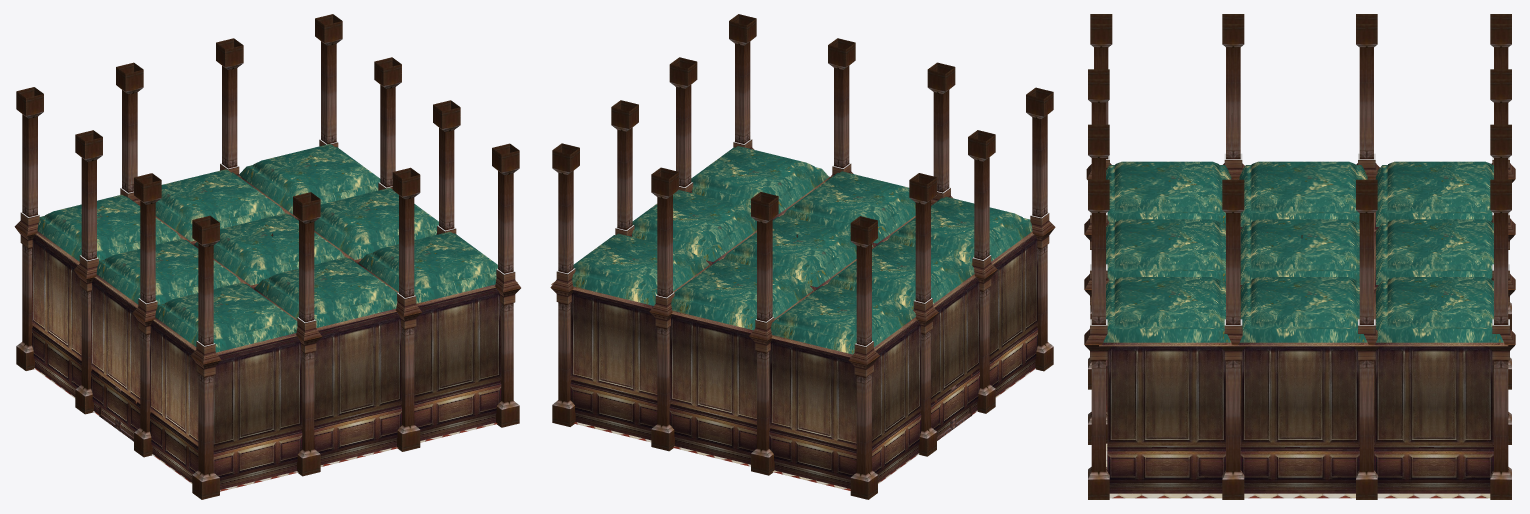
The model's file is SalaTesteMotada.fbx.
3 renders of one model, left to right at view 1: azimuth 30°, elevation 25°; view 2: azimuth 150°, elevation 25°; view 3: azimuth 270°, elevation 25°, orthographic. The views are drawn at different scales.
Visible parts, largest first — view 1: SalaTeste; view 2: SalaTeste; view 3: SalaTeste.
Boxes of the visible parts, x1,y1,x2,y2 form: SalaTeste: (14, 14, 520, 499); SalaTeste: (550, 14, 1055, 499); SalaTeste: (1084, 14, 1515, 499).
Size of the model in its own units: 887 by 724 by 910.
